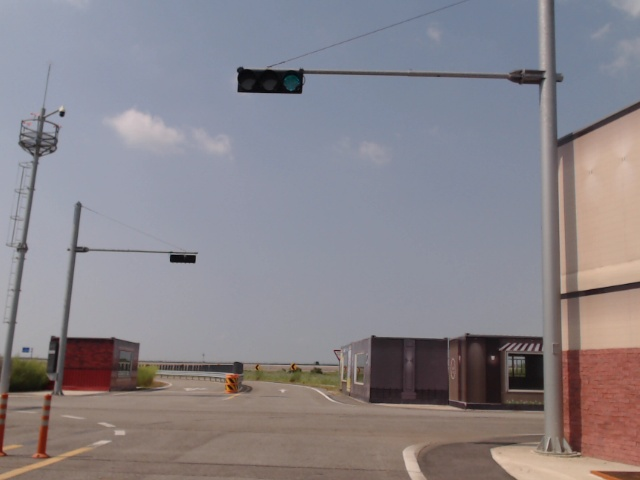green_3: (237, 69, 303, 94)
